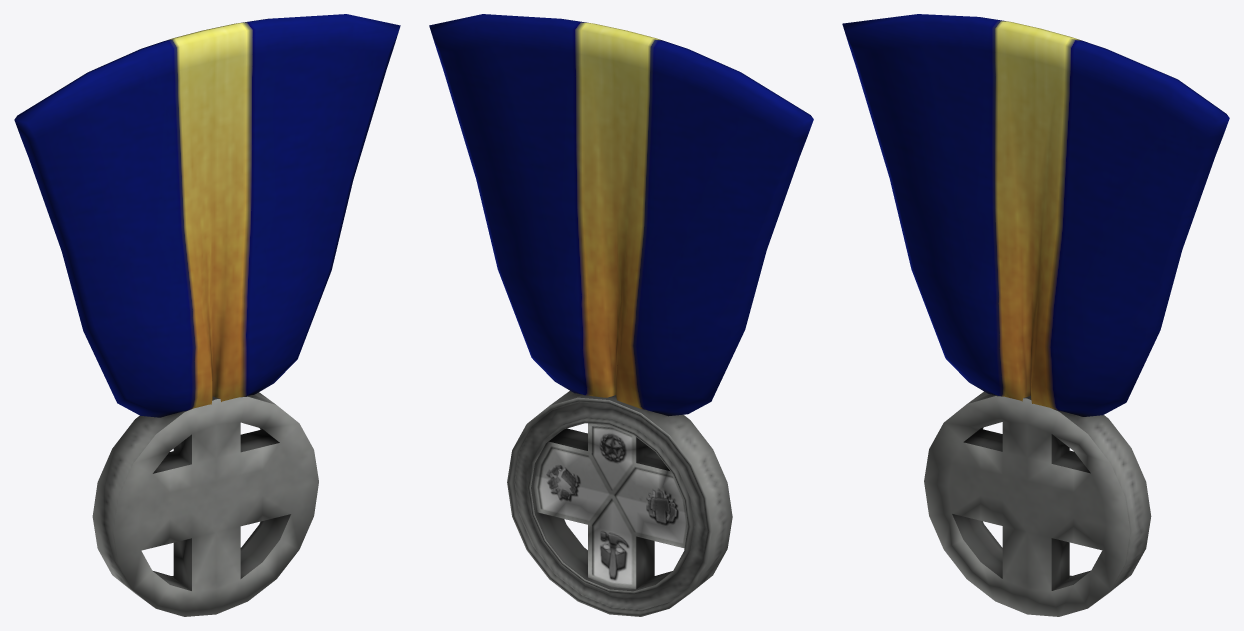
Rendered from handle.obj.
3 renders of one model, left to right at view 1: azimuth 30°, elevation 25°; view 2: azimuth 150°, elevation 25°; view 3: azimuth 330°, elevation 25°, orthographic.
Parts seen in each view (by area): view 1: Handle1; view 2: Handle1; view 3: Handle1.
Part boxes in pixels (x1,y1,x2,y2): Handle1: (14, 14, 400, 616); Handle1: (429, 14, 813, 616); Handle1: (842, 14, 1229, 616).
Bounding box in the file's own units: 0.5948 × 0.8494 × 0.0645.
1 material, 1 textured.
